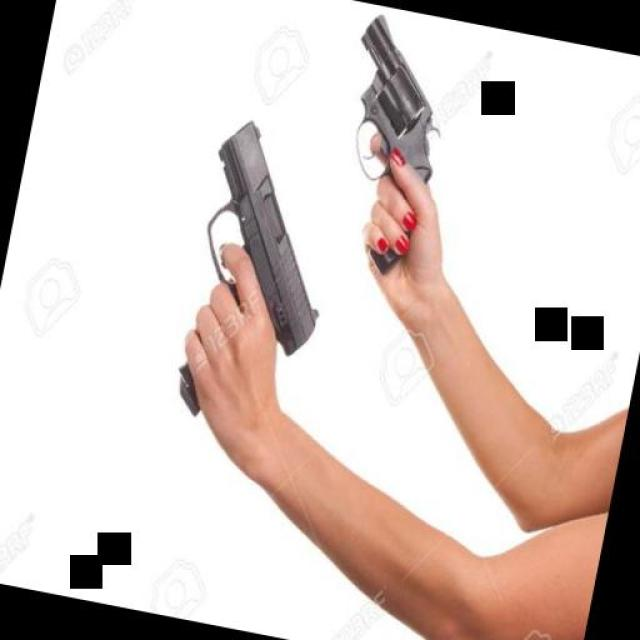gun: (154, 110, 352, 442), (315, 8, 459, 282)
